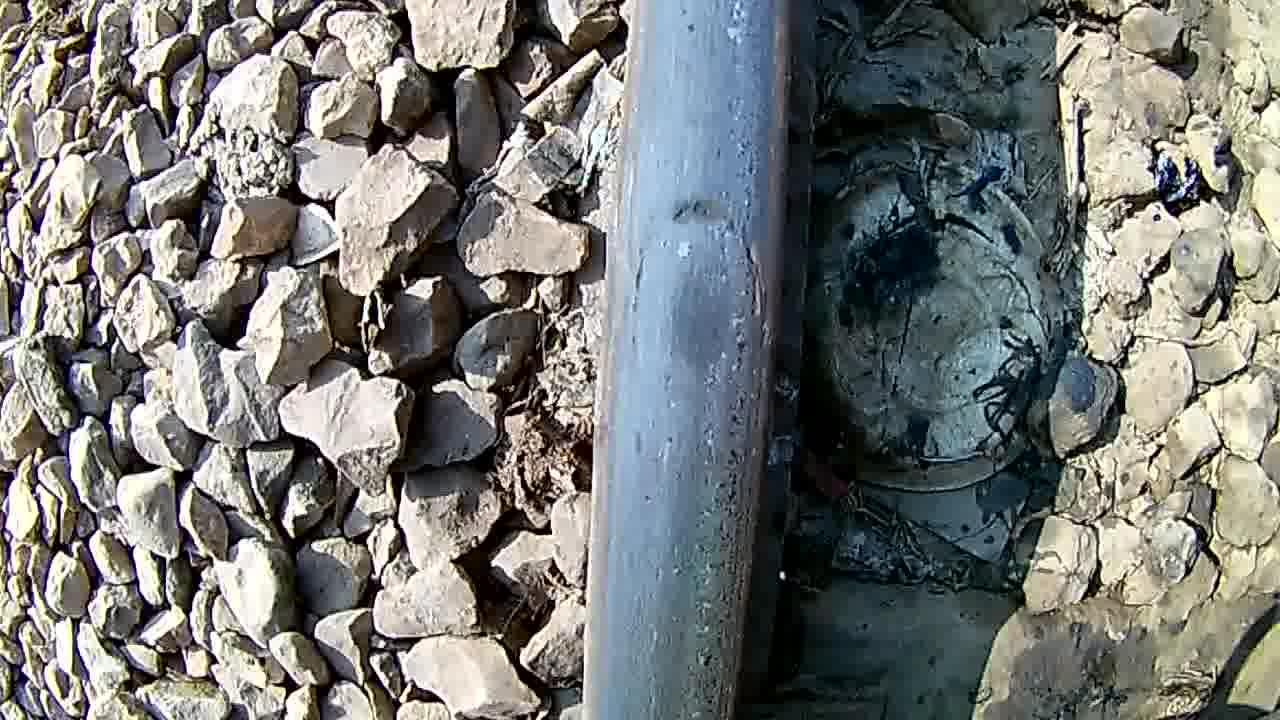bolt_missing: (606, 26, 794, 720)
